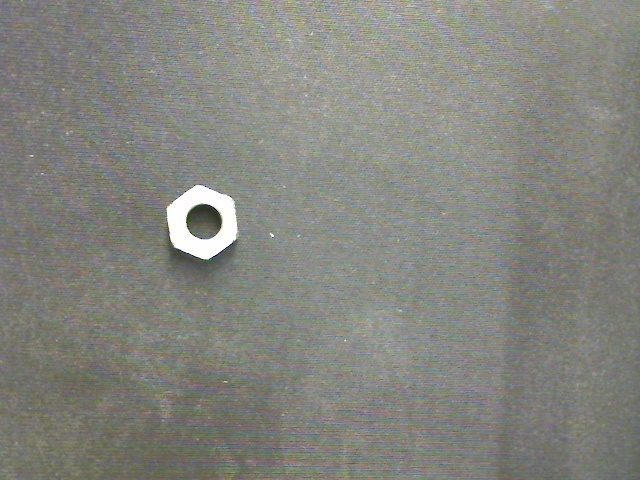nut: (164, 184, 239, 261)
